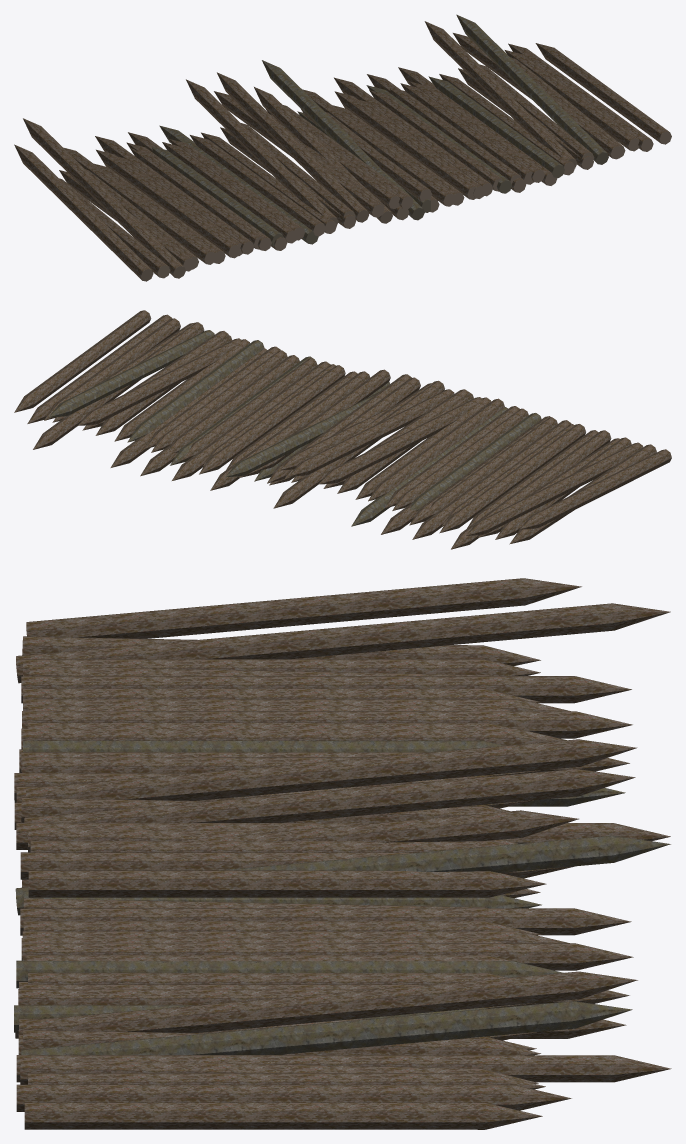
The model's file is muelle_troncos.glb.
3 renders of one model, top to bottom at view 1: azimuth 30°, elevation 25°; view 2: azimuth 150°, elevation 25°; view 3: azimuth 270°, elevation 25°, orthographic. The views are drawn at different scales.
Parts seen in each view (by area): view 1: muelle_troncos; view 2: muelle_troncos; view 3: muelle_troncos.
Part boxes in pixels (<box>): muelle_troncos: <box>14,14,671,281</box>; muelle_troncos: <box>14,310,671,549</box>; muelle_troncos: <box>14,578,671,1129</box>.
Bounding box in the file's own units: 7.2 × 0.6494 × 3.89.
2 materials, 2 textured.
